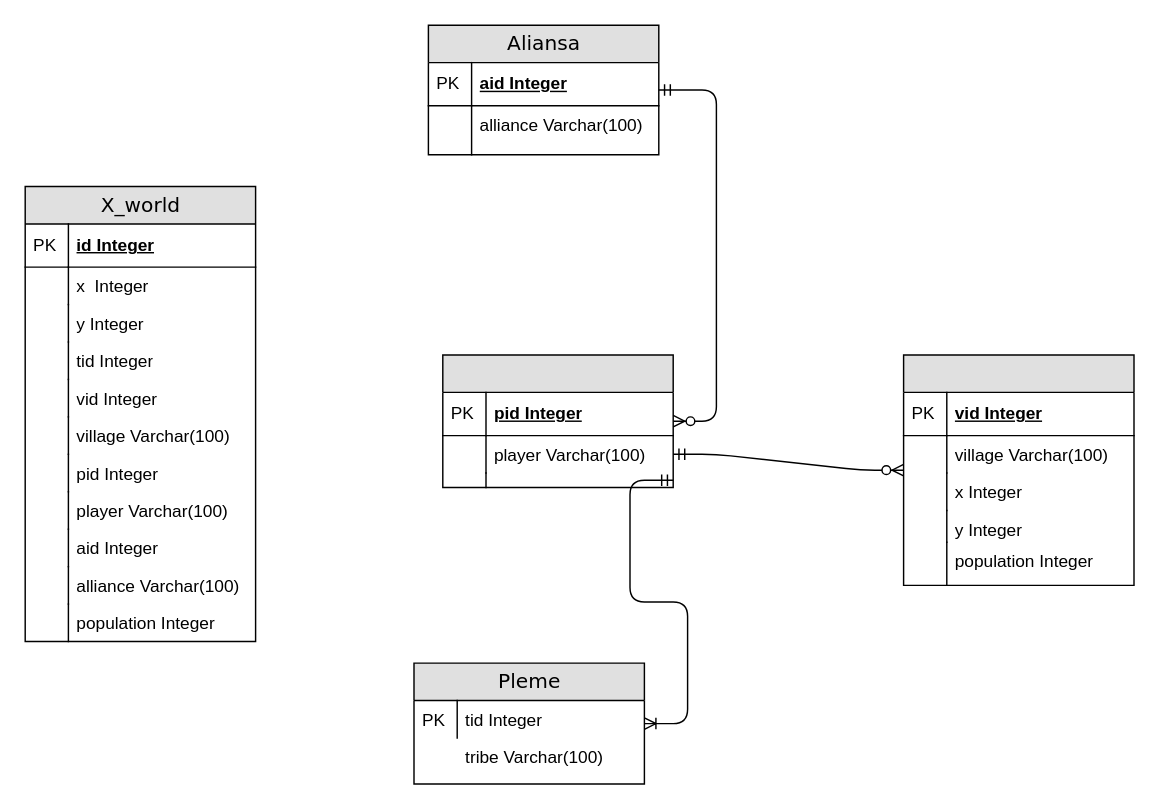
This 1159x809 diagram has some shape labels left out. The box of each missing label's shape, as (x1, y1, x2, y2) in pixels:
Igralec: (441, 354, 673, 487)
Naselje: (902, 354, 1134, 585)
